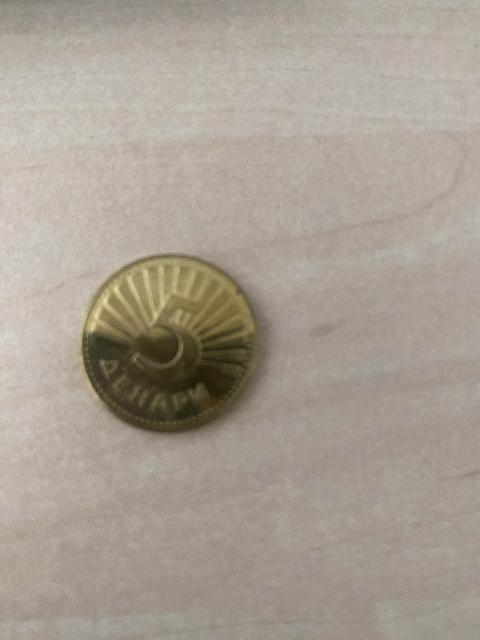5_coin: (82, 255, 256, 431)
